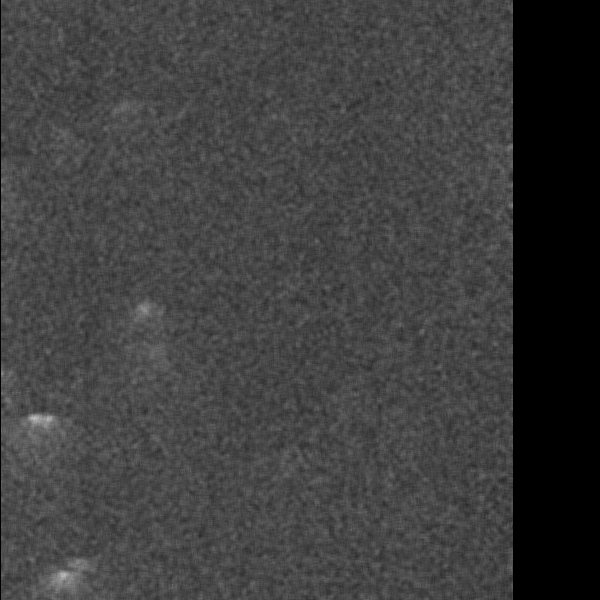spark: (10, 407, 76, 452), (47, 562, 80, 600), (128, 293, 156, 330)
